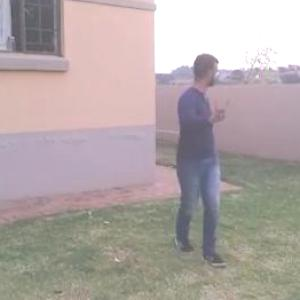takeoff-hand: (204, 94, 232, 127)
